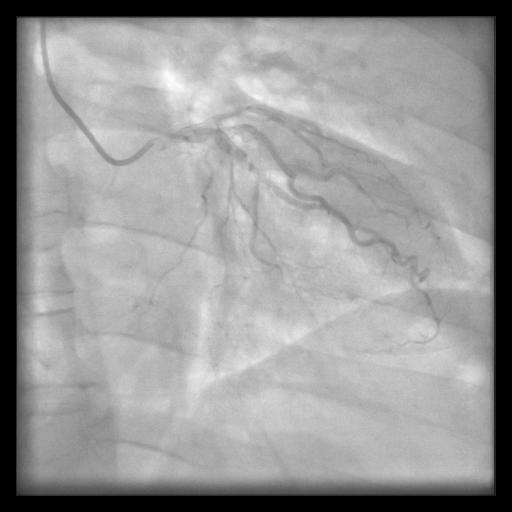Stenosis: (243, 152, 250, 169)
